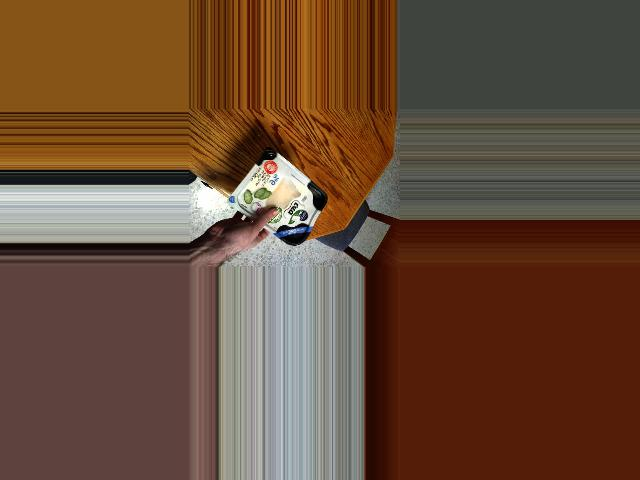cheese: (243, 155, 327, 248)
